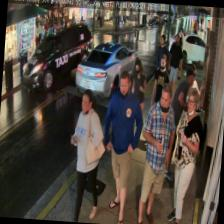person: (97, 69, 146, 224), (135, 81, 177, 224), (64, 88, 106, 222), (165, 87, 202, 224), (159, 64, 194, 180), (178, 63, 206, 151), (147, 53, 171, 144), (127, 57, 148, 134), (164, 32, 184, 105), (154, 34, 170, 92)
